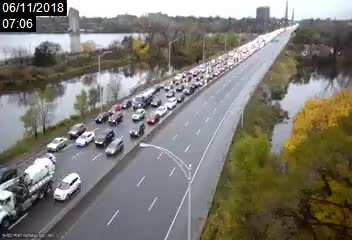congestion: (41, 127, 130, 200), (79, 102, 162, 142), (127, 84, 182, 111), (161, 74, 206, 92), (185, 65, 223, 79), (204, 58, 236, 69)
personal_car: (53, 175, 84, 199), (105, 140, 126, 160), (96, 128, 114, 146), (74, 131, 95, 146), (128, 123, 147, 139), (47, 137, 67, 152), (67, 123, 88, 137), (131, 109, 146, 123), (108, 113, 124, 125), (107, 103, 122, 115), (165, 96, 177, 109), (147, 112, 160, 124), (120, 98, 132, 111), (95, 111, 108, 123), (155, 105, 168, 115), (142, 89, 155, 99), (182, 85, 194, 95), (175, 92, 184, 102), (165, 89, 175, 98), (176, 83, 184, 92), (154, 84, 164, 91), (183, 74, 191, 82), (193, 81, 201, 88), (174, 74, 182, 80), (165, 84, 172, 90)
truck: (1, 152, 56, 226), (132, 95, 153, 111)
